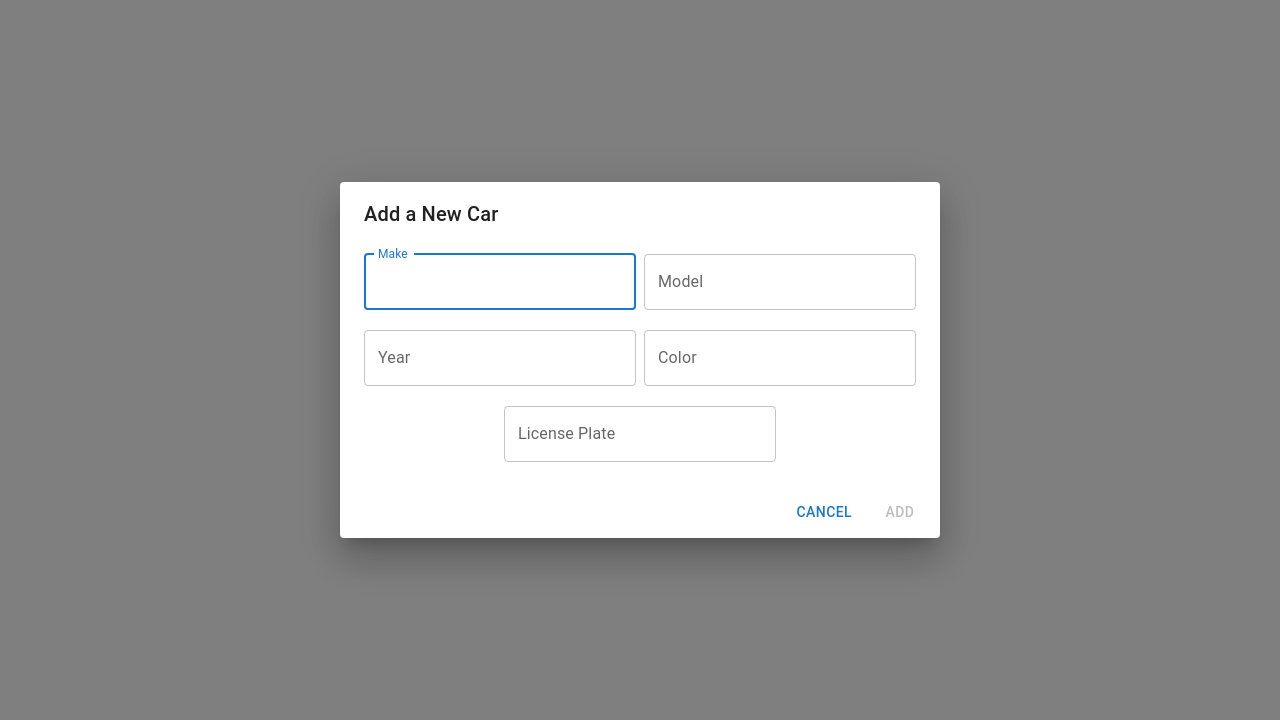
Test case: Add car is disabled until all fields full
This screenshot has width=1280, height=720.
Check: the button "Add" is disabled, box [868,494,932,530]
In the field labelled "Make": coordinates (500, 282) [364,254,636,310], type "test"
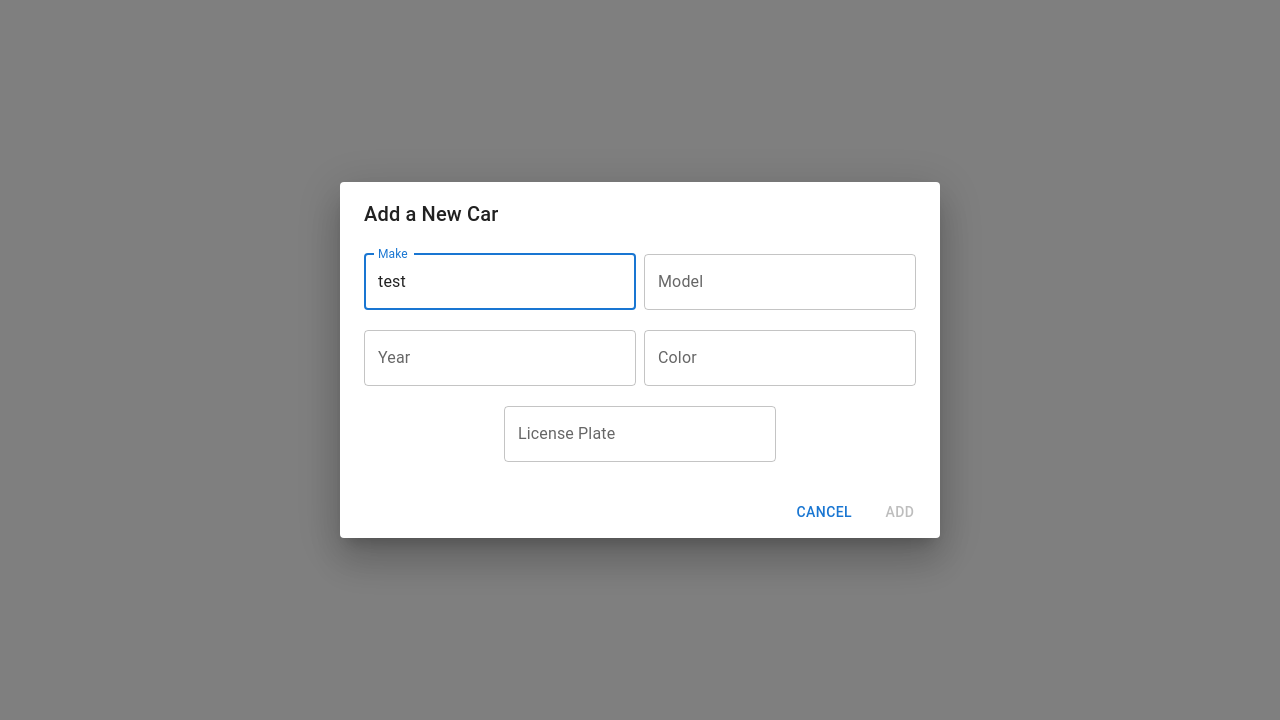
Check: the button "Add" is disabled, box [868,494,932,530]
In the field labelled "Model": coordinates (780, 282) [644,254,916,310], type "test"
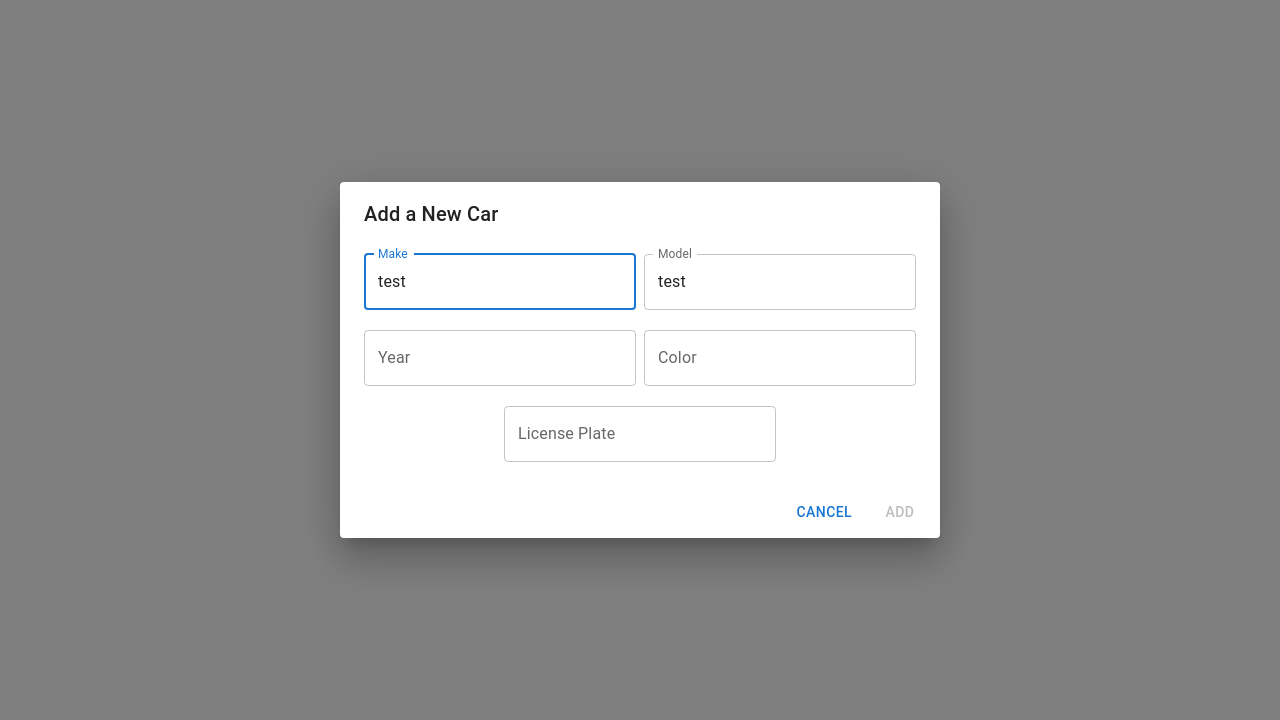
Check: the button "Add" is disabled, box [868,494,932,530]
In the field labelled "Year": coordinates (500, 358) [364,330,636,386], type "test"
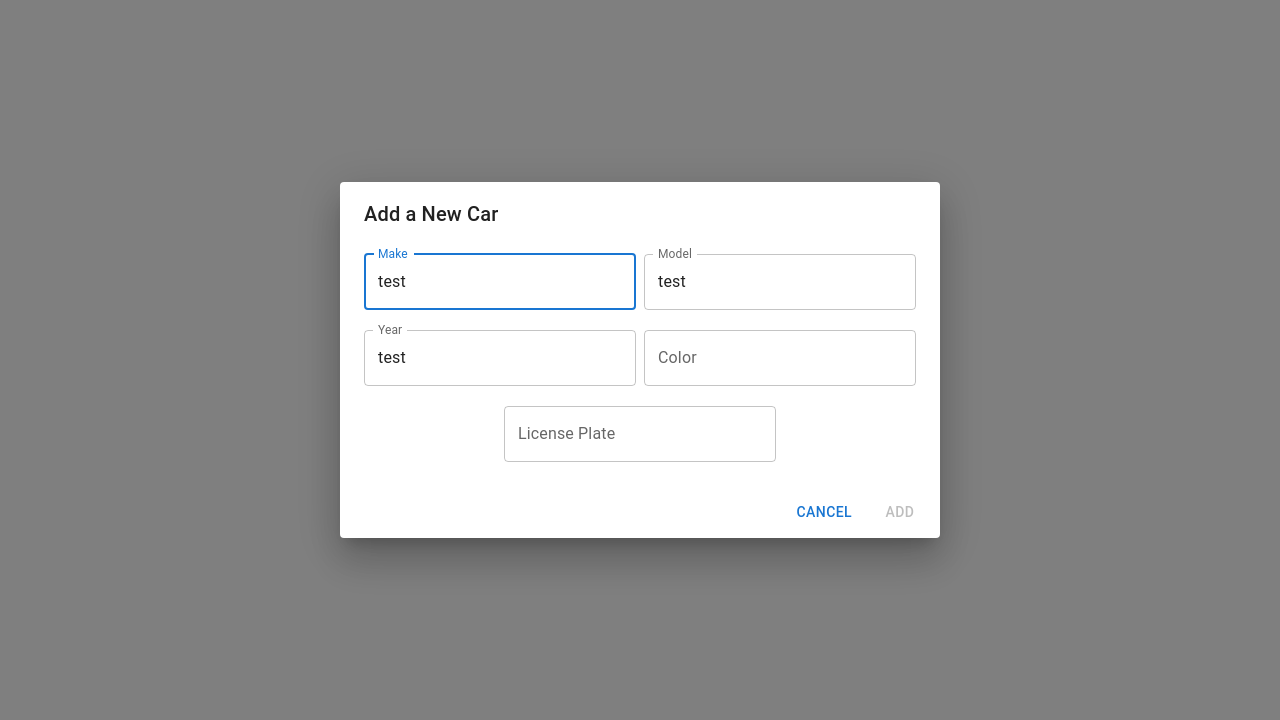
Check: the button "Add" is disabled, box [868,494,932,530]
In the field labelled "Color": coordinates (780, 358) [644,330,916,386], type "test"
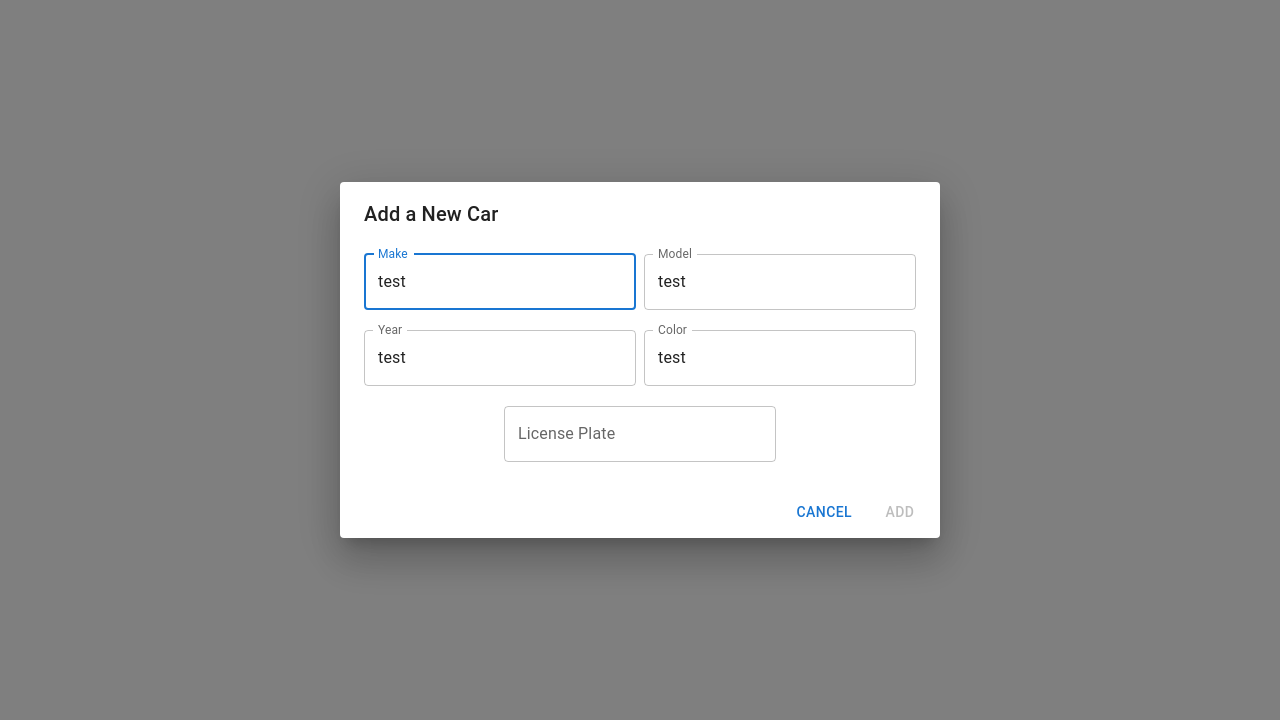
Check: the button "Add" is disabled, box [868,494,932,530]
In the field labelled "License Plate": coordinates (640, 434) [504,406,776,462], type "test"
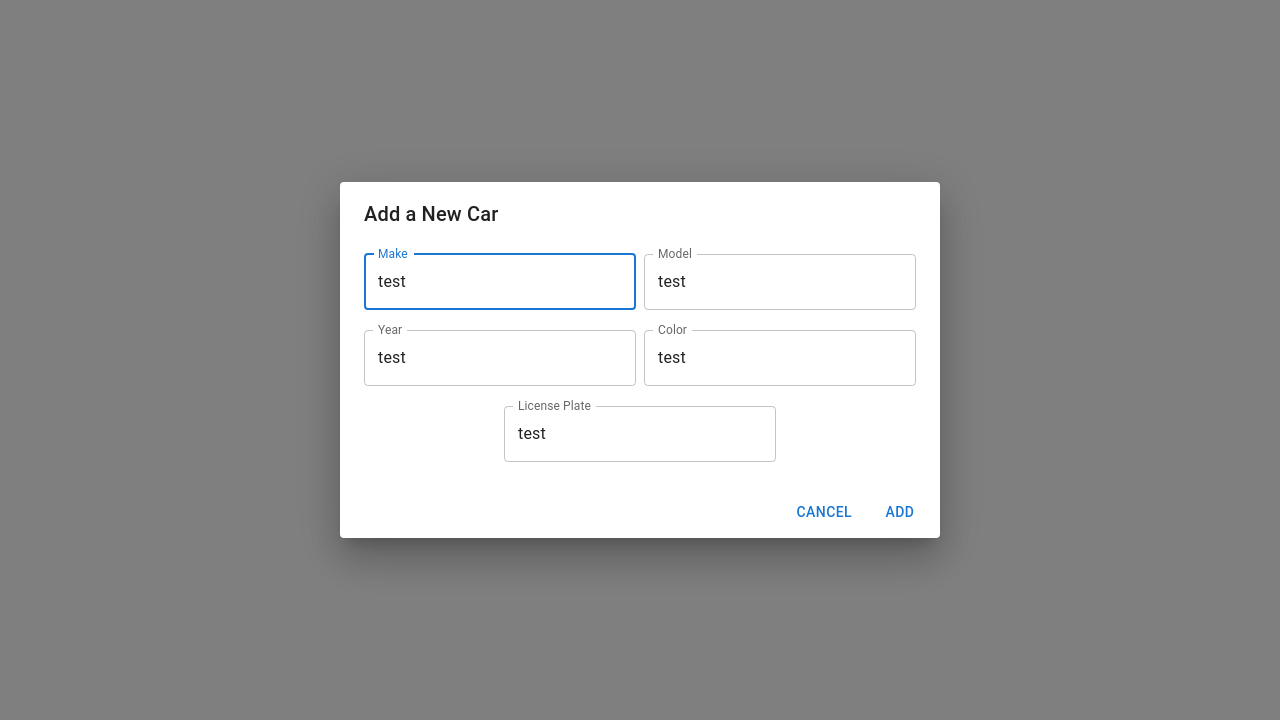
Check: the button "Add" is enabled, box [868,494,932,530]
